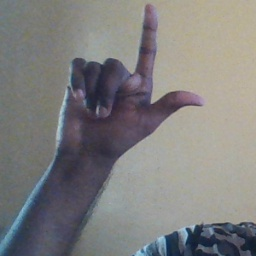L: (59, 4, 206, 156)
